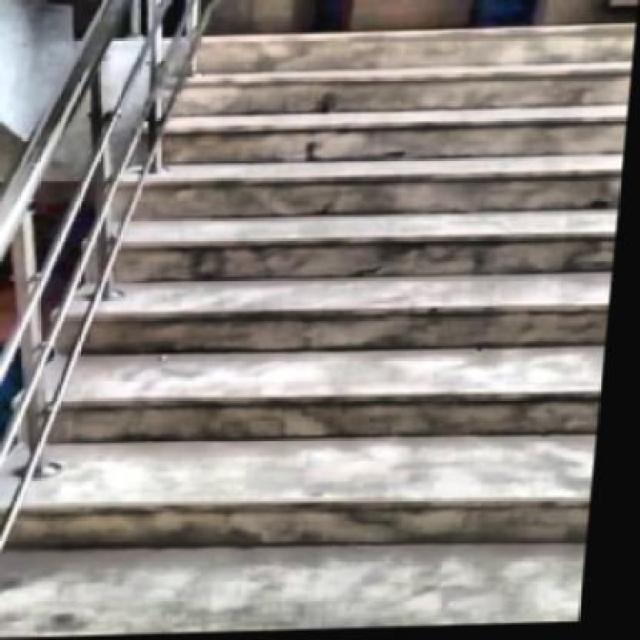stair: (9, 19, 636, 638)
